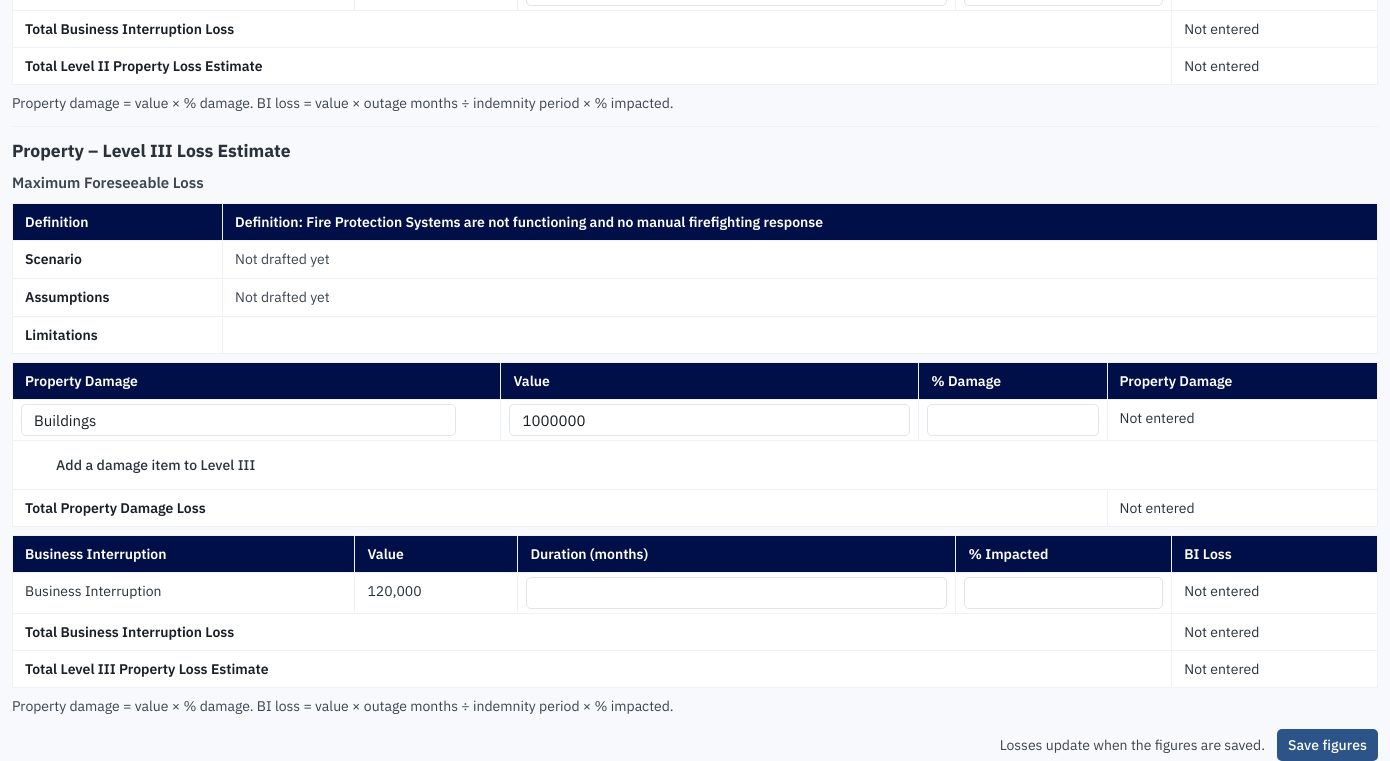
Test case: says which rule a refused save broke
(page scrolled)
Click the button "Save figures": (1328, 745) 1277,729 -> 1378,760
(page scrolled)
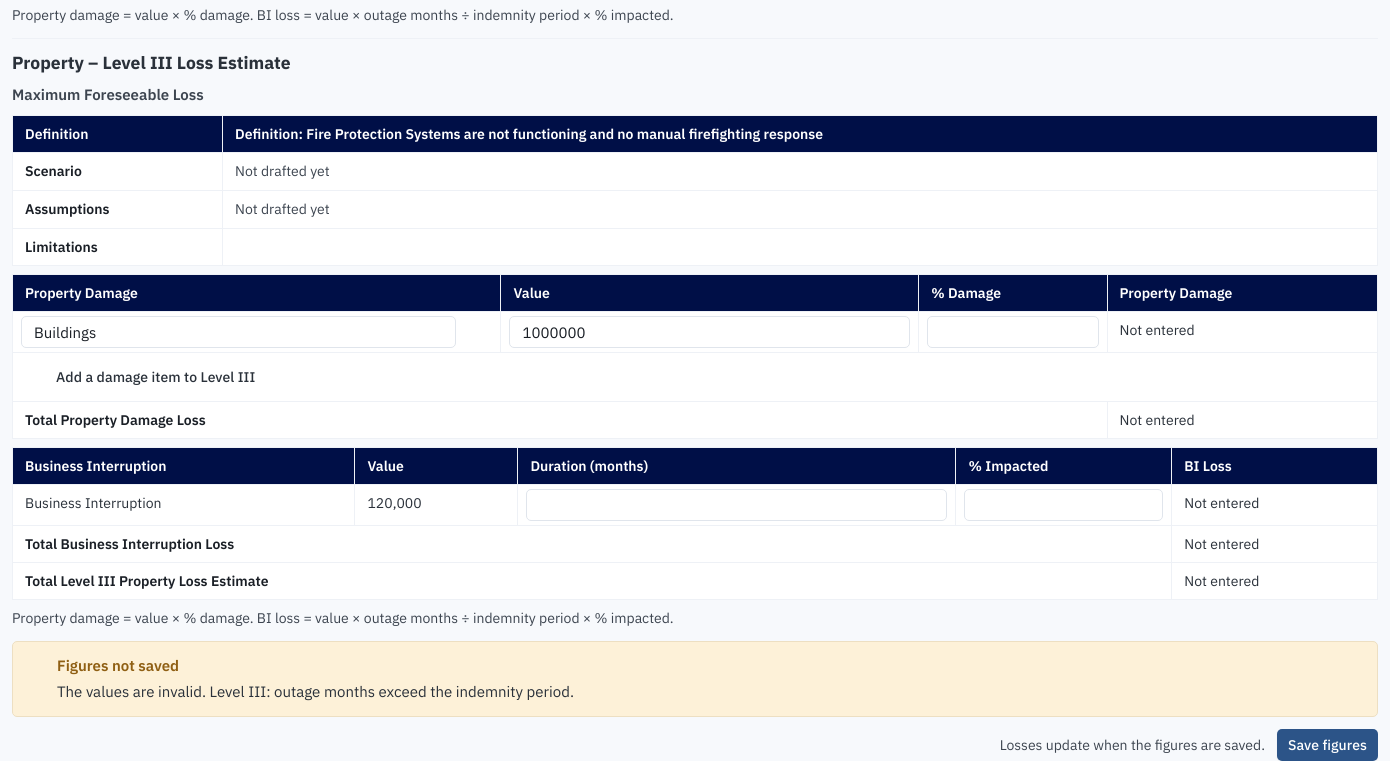
Expected: the message shows "The values are invalid. Level III: outage months exceed the indemnity period.", 57,682 -> 574,701
